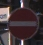No entry: (5, 5, 38, 39)
